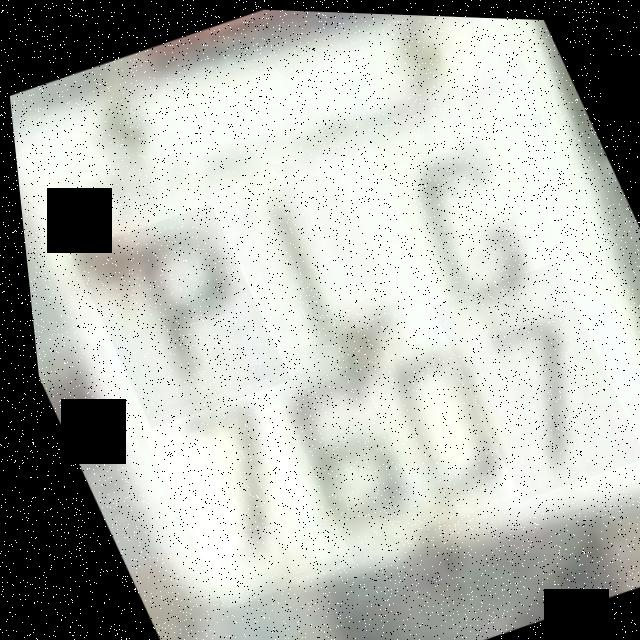0: (329, 281, 550, 527)
6: (233, 320, 454, 565)
7: (422, 255, 640, 500), (126, 372, 348, 612)
J: (209, 163, 412, 383)
P: (61, 198, 288, 431)
